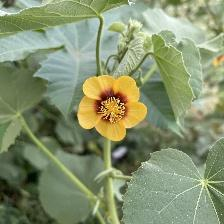indian mallow: (78, 75, 150, 144)
